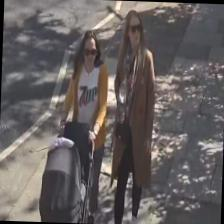person: (108, 7, 157, 224), (56, 28, 110, 222)
